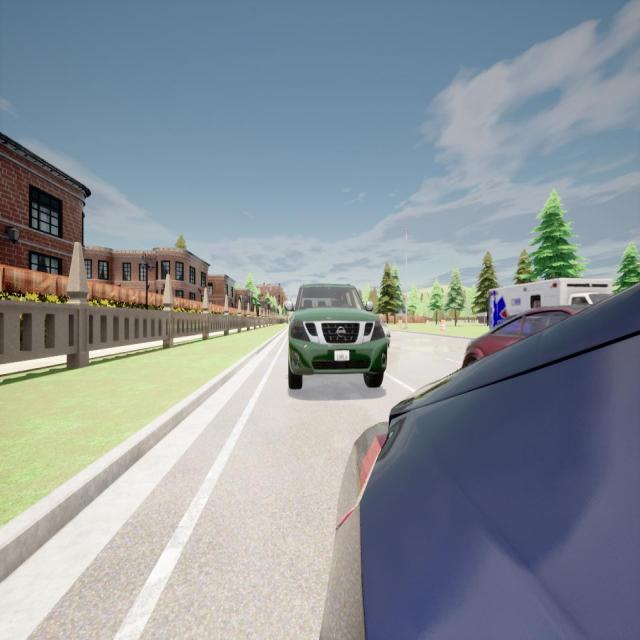Vehicle: (320, 284, 640, 638), (283, 281, 390, 391), (462, 306, 591, 367), (484, 279, 614, 329), (380, 321, 392, 346)
